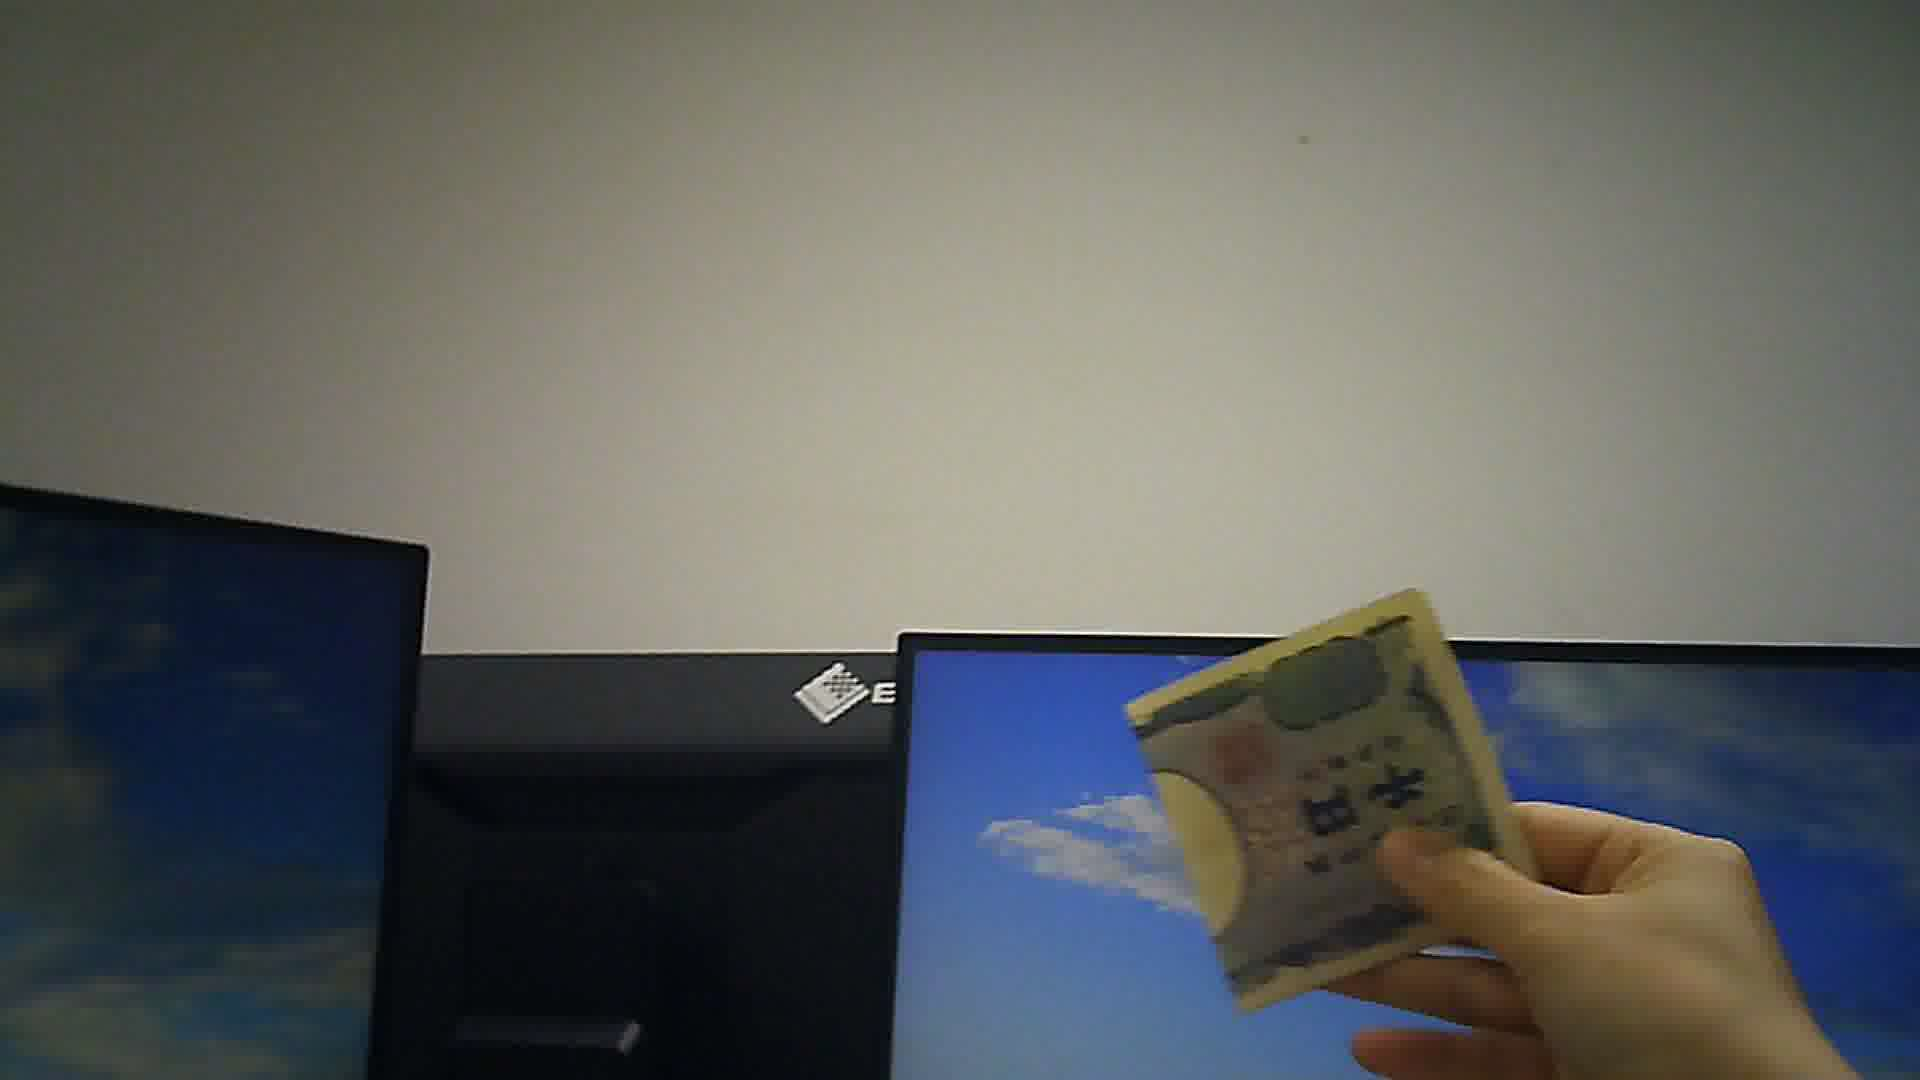1,000 Yen: (1127, 582, 1543, 1029)
